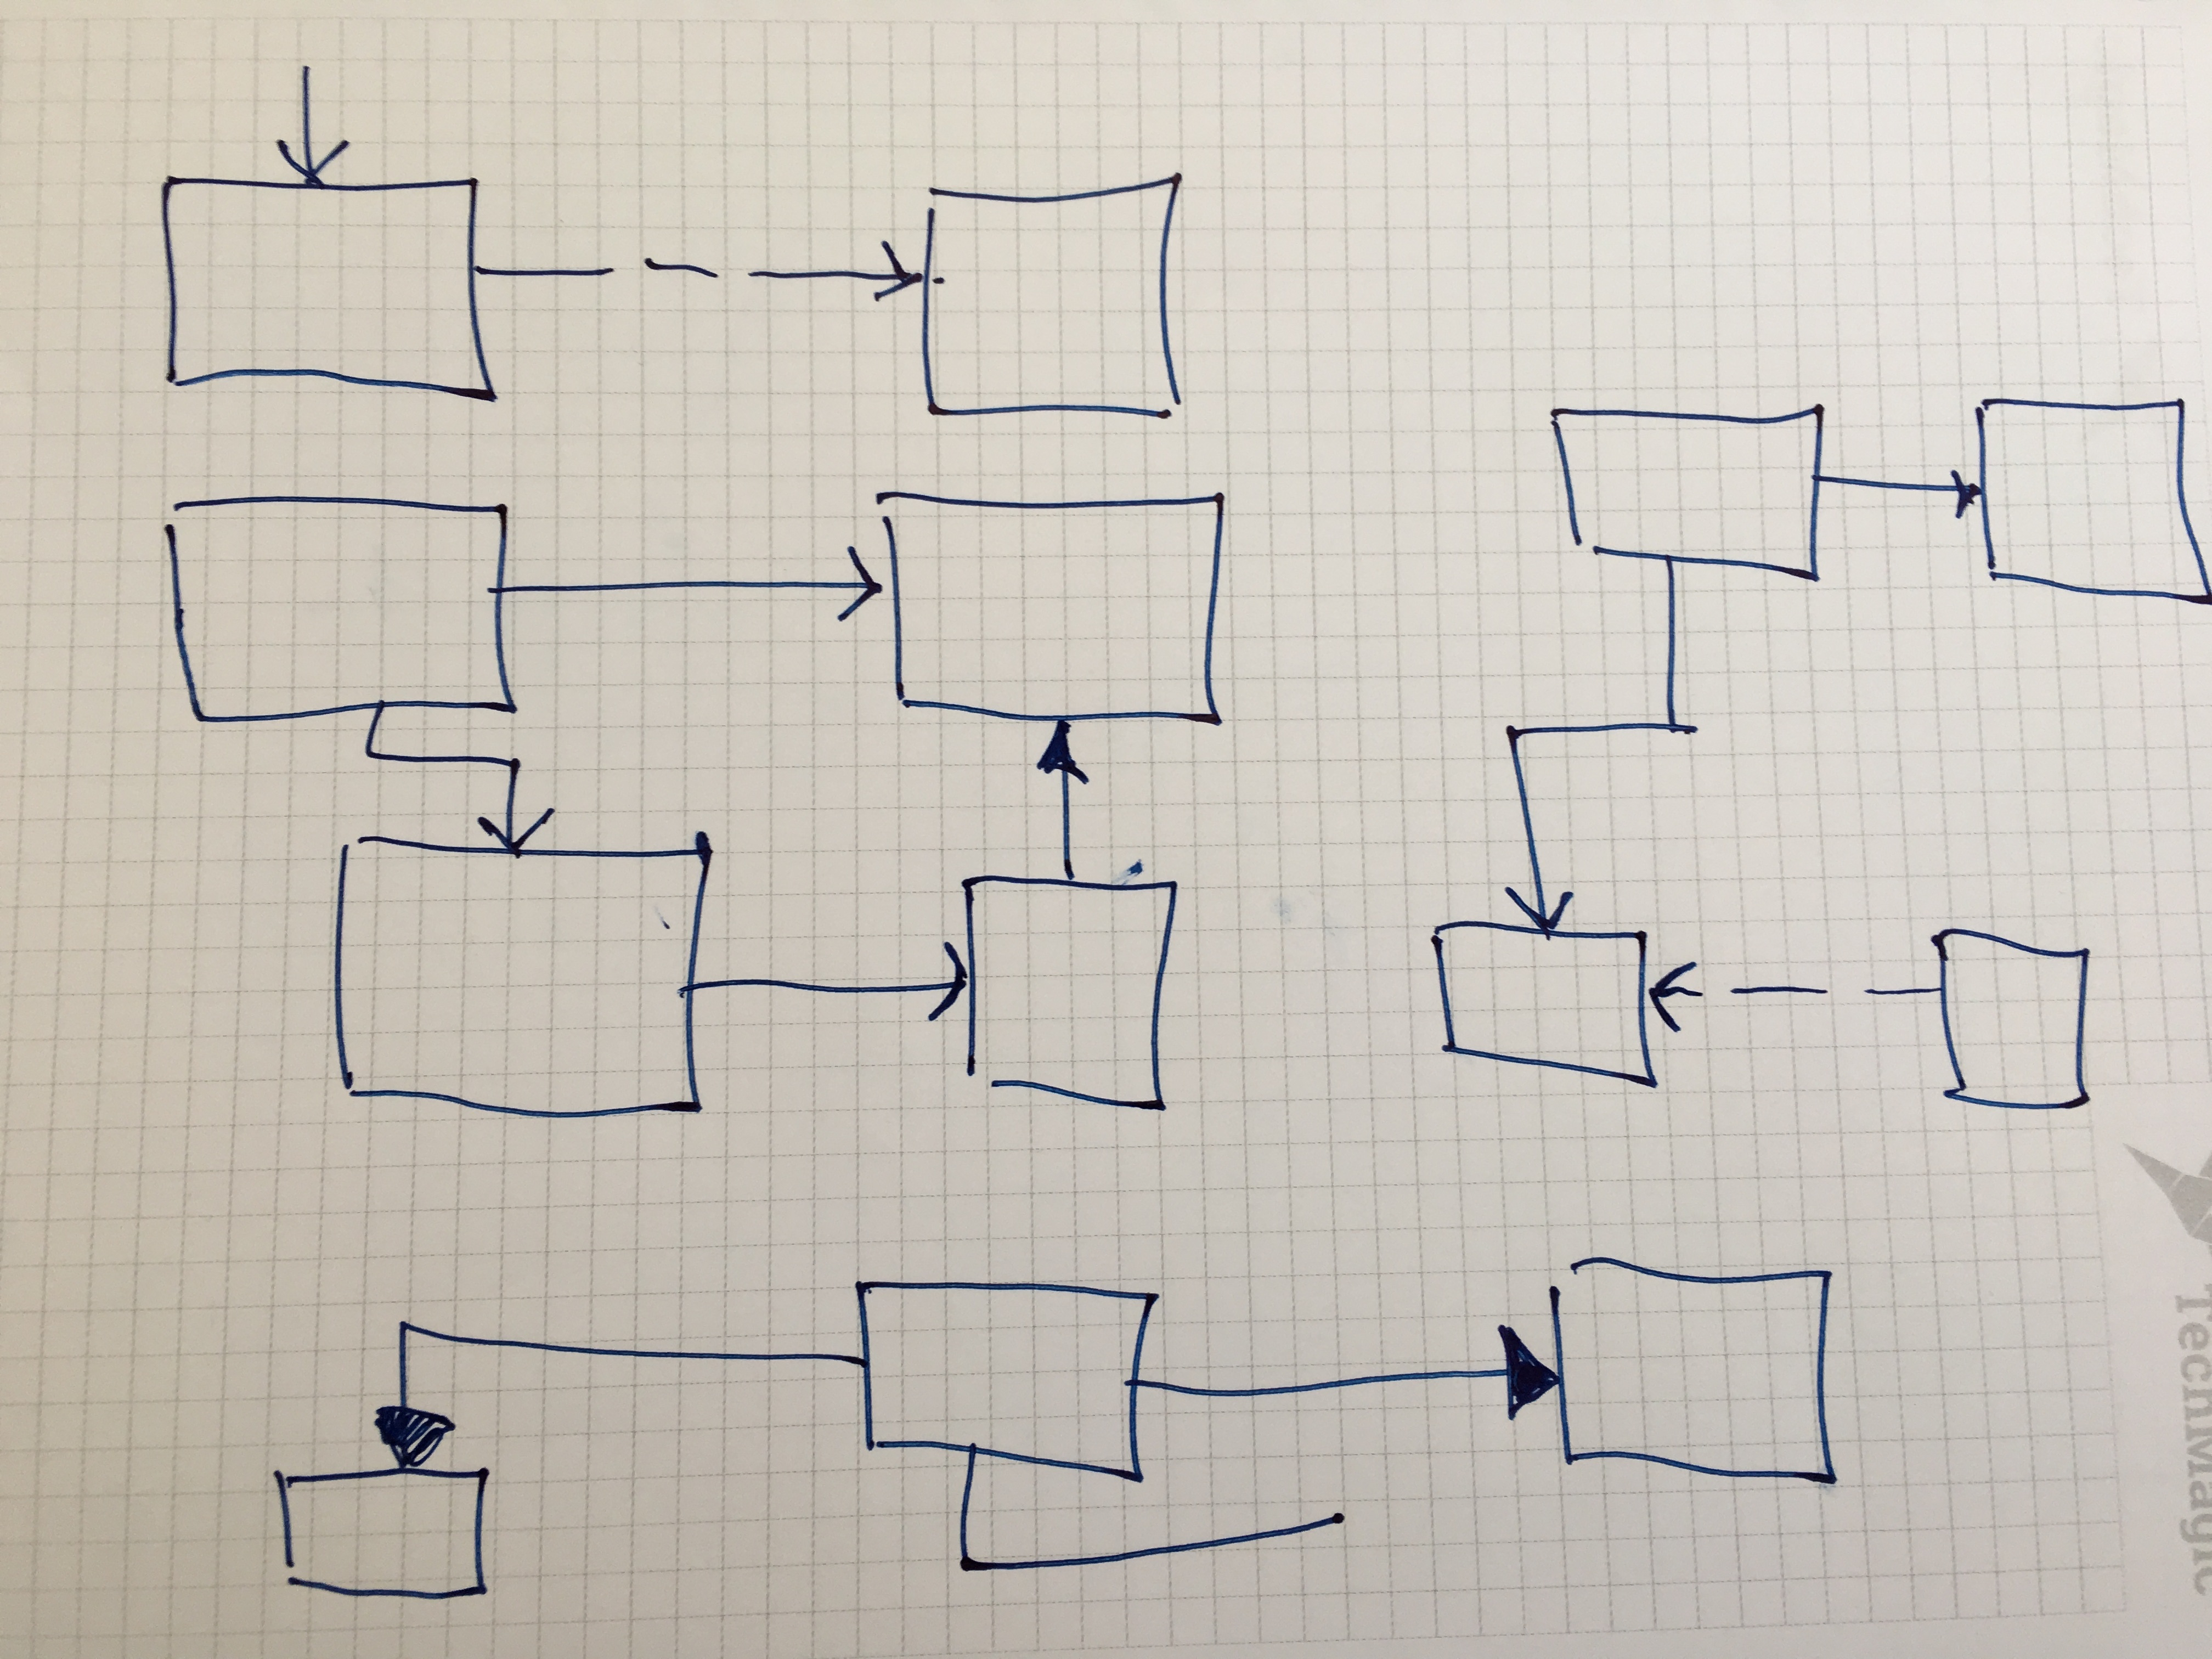arrow: (1435, 1316, 1576, 1425), (1026, 697, 1101, 835), (846, 228, 953, 322), (258, 106, 355, 206), (887, 936, 984, 1033), (1498, 857, 1581, 964), (369, 1385, 453, 1490), (472, 775, 554, 880), (1632, 958, 1726, 1039), (813, 542, 892, 638), (1928, 458, 1998, 519)
